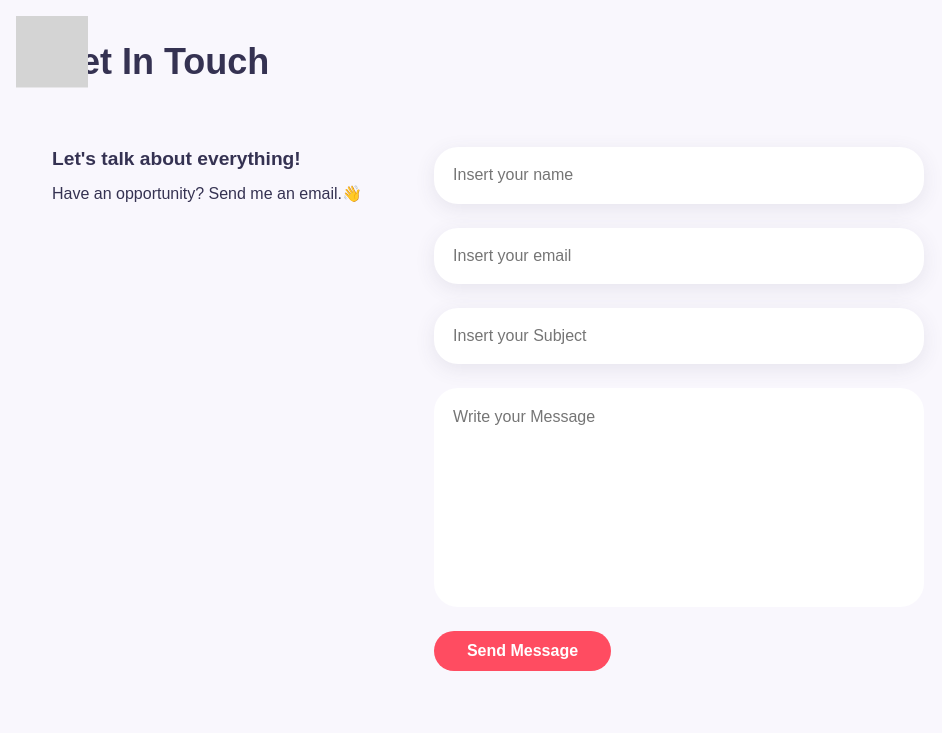
Test: GetInTouchSection › should display an error message if the field 'subject' doesn't pass the yup validations
Type "aa" into the field with placeholder "Insert your name" at (679, 175), box [434,147,924,204]
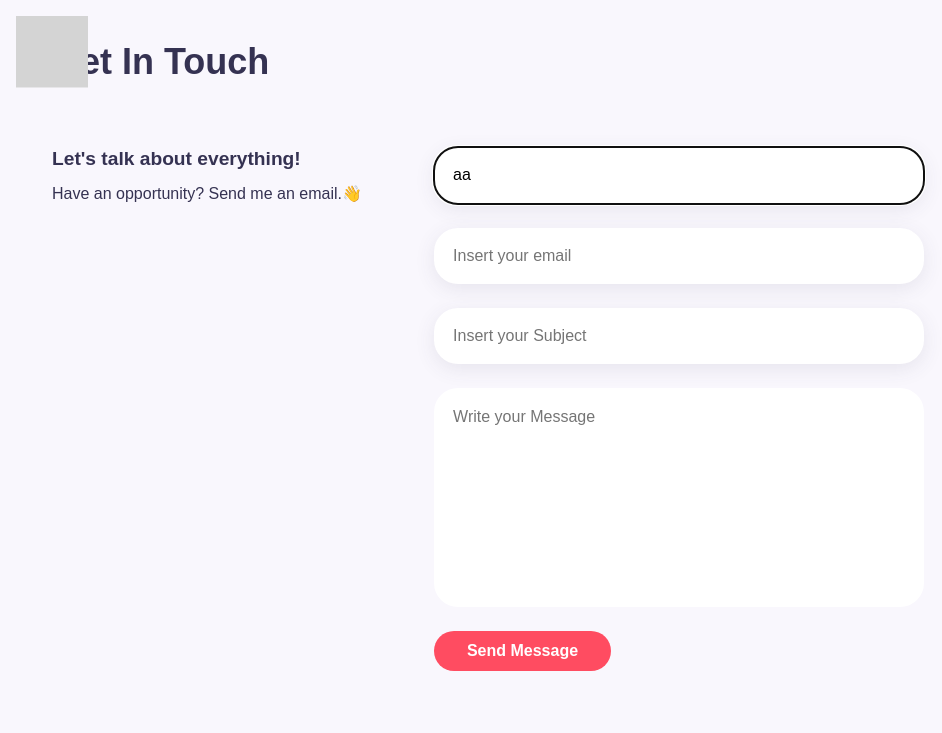
Type "test@rn9.com" into the field with placeholder "Insert your email" at (679, 256), box [434,228,924,284]
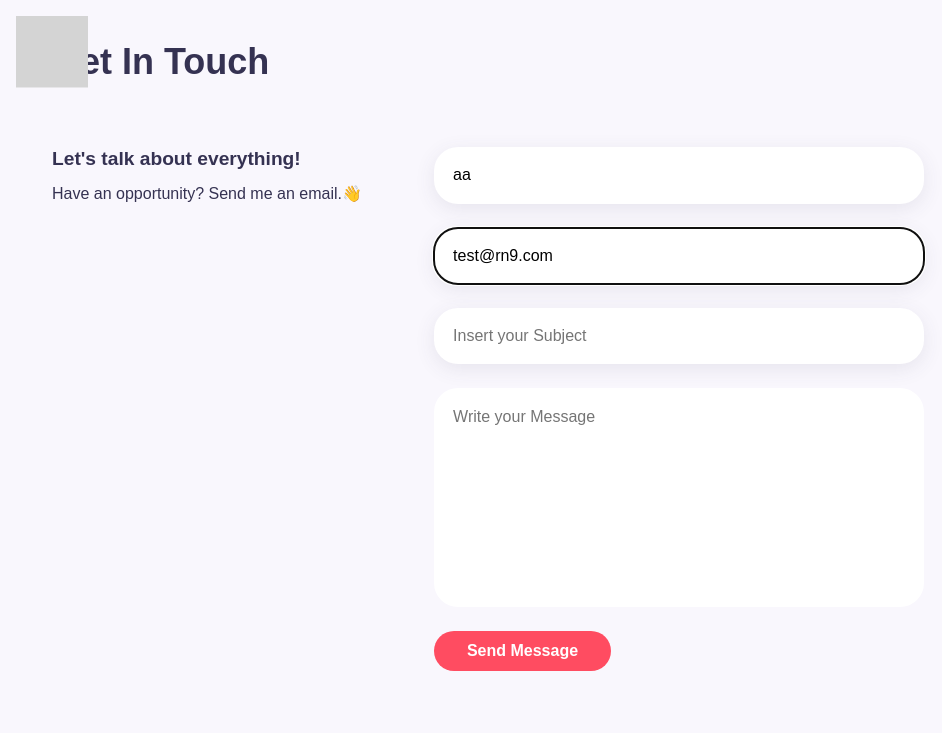
Type "Il3lKWug8NHujPZ9MGJ5GhSC4UNWDOH4318RqiDHLZvjynmM96SvkOCikFt1UVQNLGi1VfazDCWNhYKo8G4ARPeHrz2uwvRFhlshz" into the field with placeholder "Insert your Subject" at (679, 336), box [434,308,924,364]
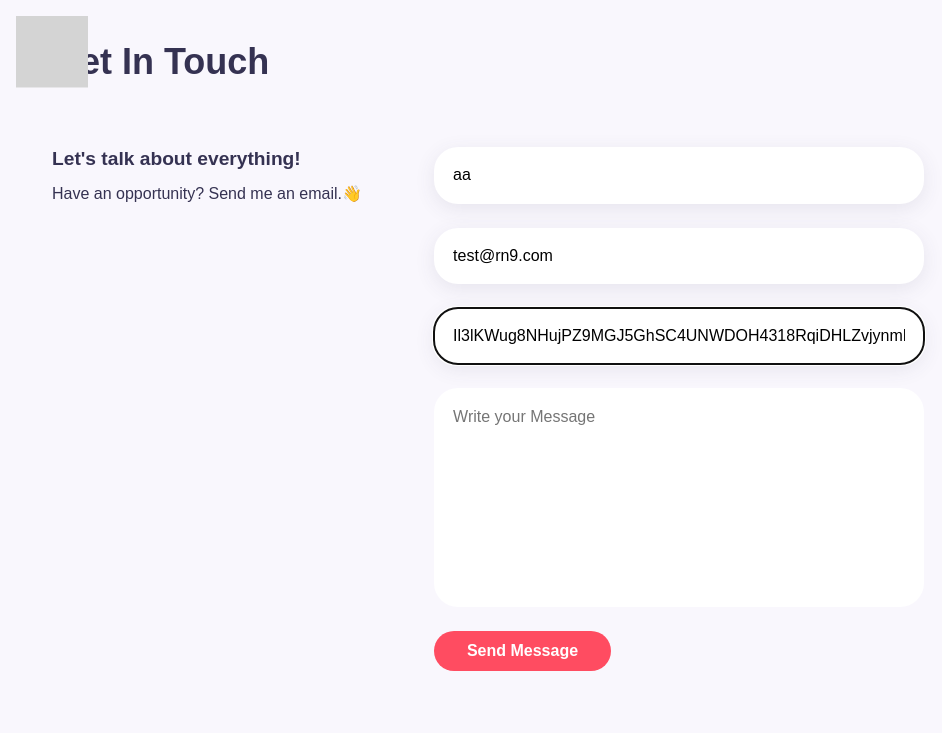
Type "test message" into the text box with placeholder "Write your Message" at (679, 498), box [434,388,924,607]
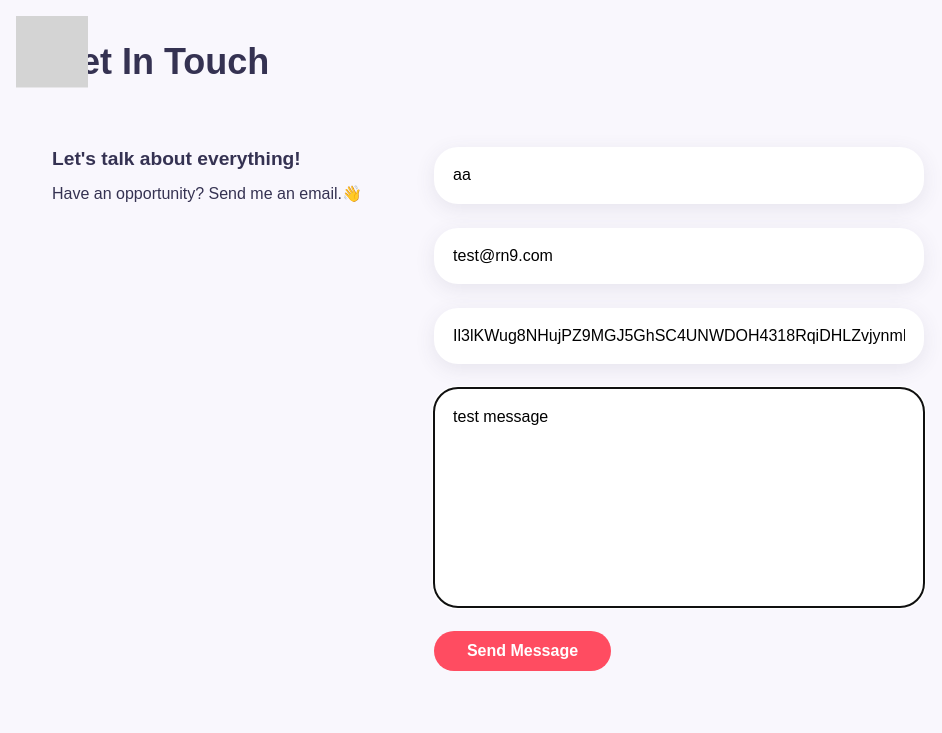
Click the button "Send Message" at (522, 651), box [434,631,611,671]
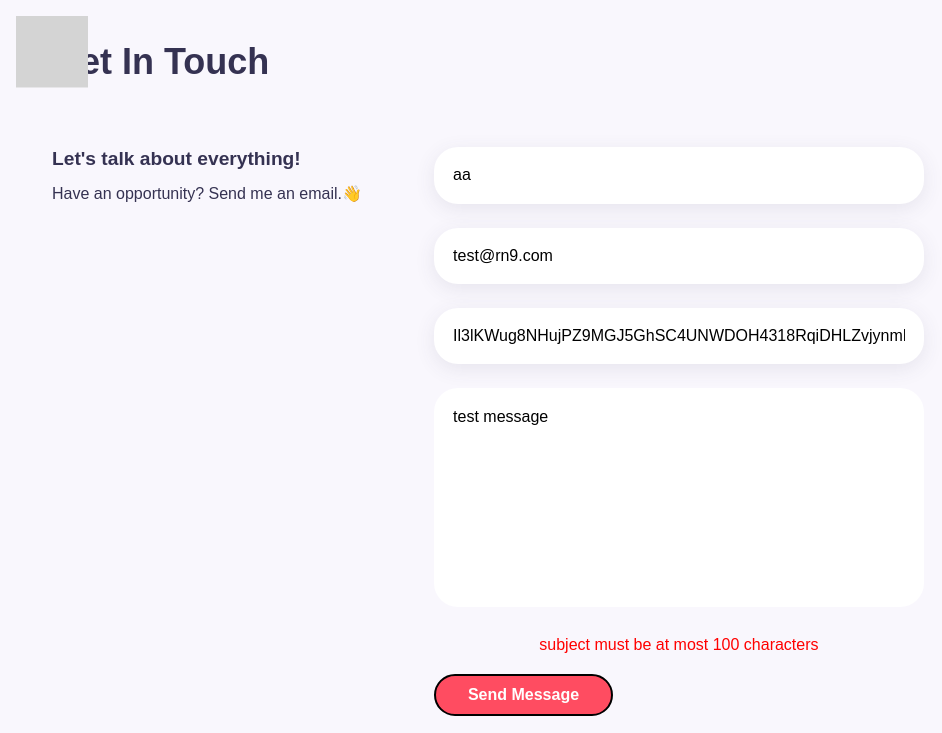
Expected: the text "subject must be at most 100 characters" is shown, [539,636,819,653]
